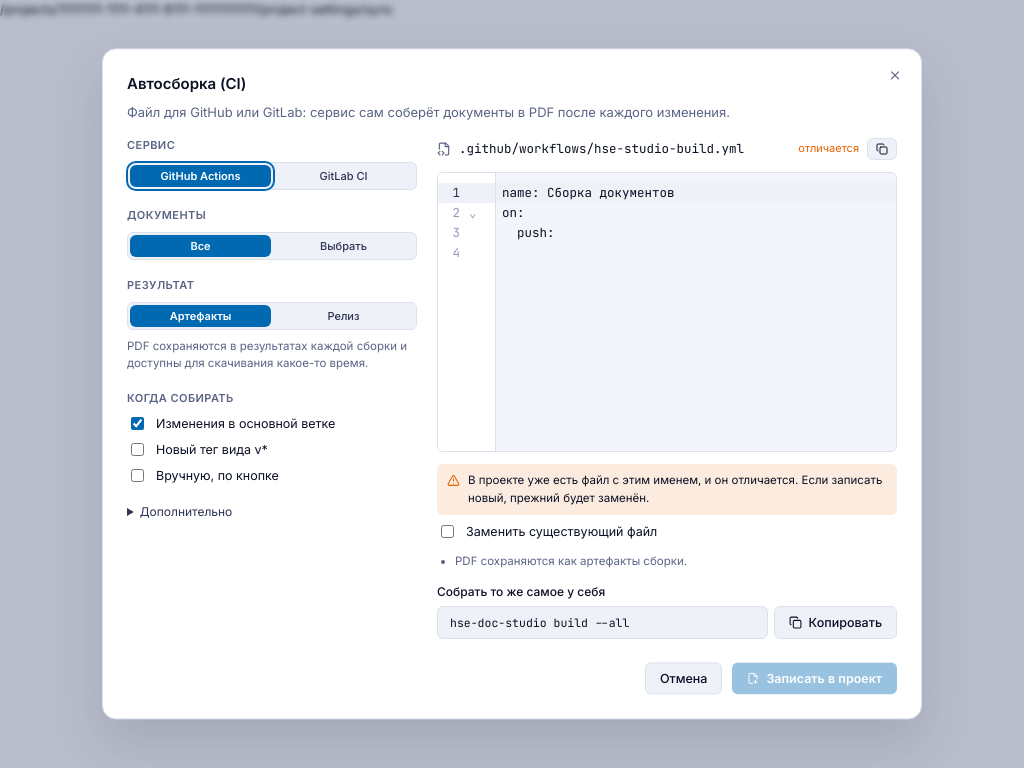
Test: окно автосборки (CI) › файл уже есть в проекте › смена настроек снимает подтверждение замены
The image size is (1024, 768).
expect the text "отличается" is shown: met, box top-left (798, 142), bottom-right (859, 158)
What coordinates should you click on to do the following:
click the checkbox with test id "ci-overwrite"
I would click on:
 (448, 532)
Its box is top-left (441, 525), bottom-right (454, 538).
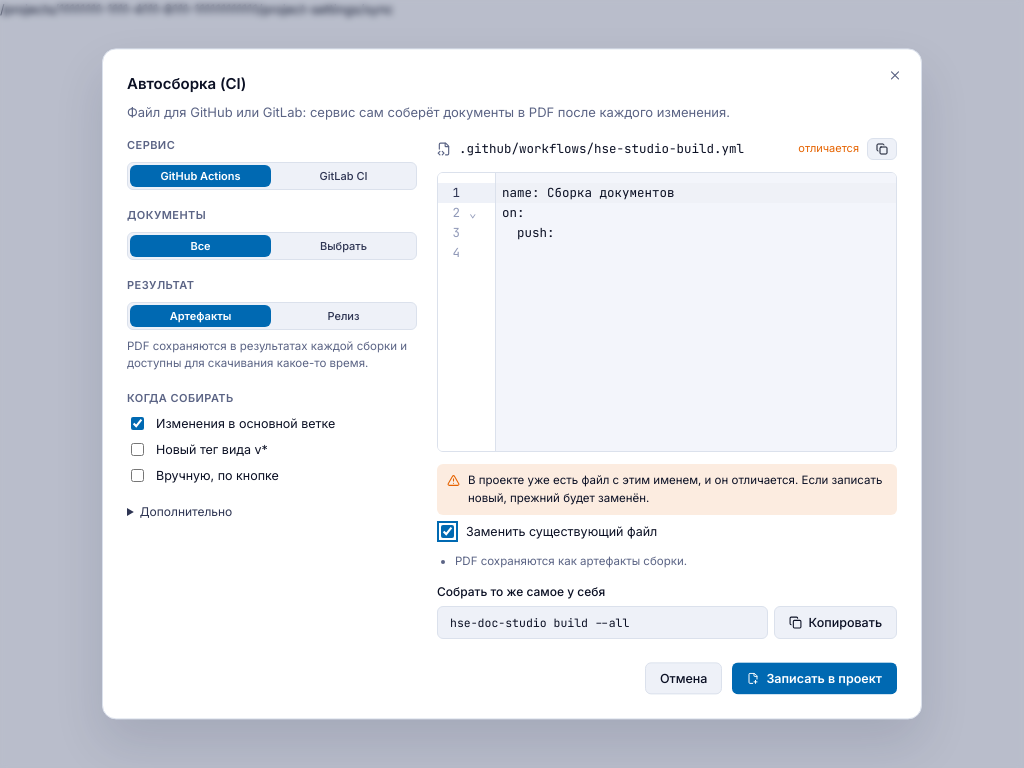
expect the button "Записать в проект" is enabled: met, box top-left (732, 663), bottom-right (897, 695)
What coordinates should you click on to do the following:
click the checkbox with test id "ci-trigger-manual"
I would click on:
 (138, 476)
Its box is top-left (131, 469), bottom-right (144, 482).
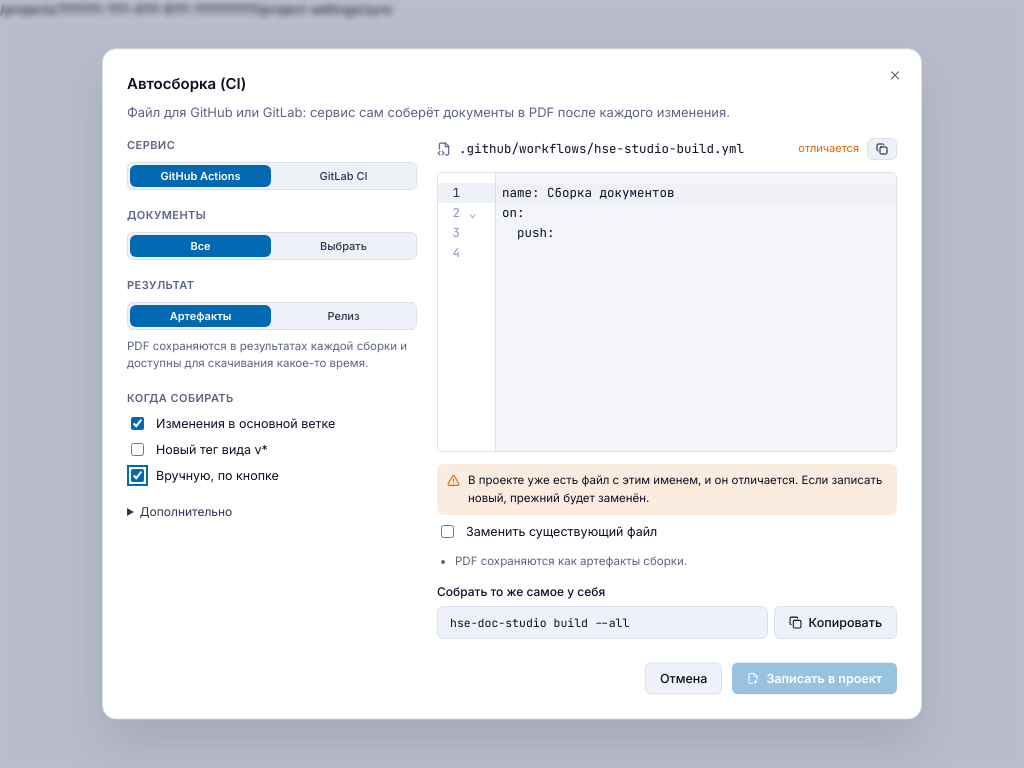
expect the checkbox with test id "ci-overwrite" is not checked: met, box top-left (441, 525), bottom-right (454, 538)
expect the button "Записать в проект" is disabled: met, box top-left (732, 663), bottom-right (897, 695)
